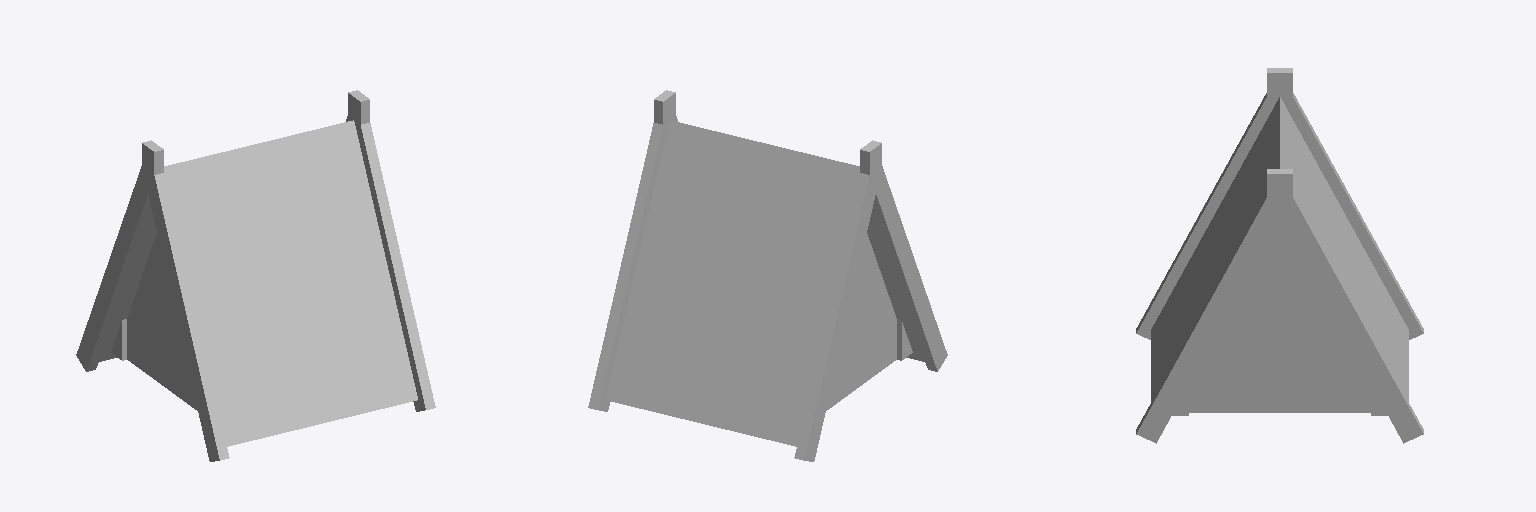
File: roof-high-gable-detail.obj
3 views of the same model, side by side, from view 1: azimuth 30°, elevation 25°; view 2: azimuth 150°, elevation 25°; view 3: azimuth 270°, elevation 25° (orthographic).
Visible parts, largest first — view 1: roof-high-gable-detail; view 2: roof-high-gable-detail; view 3: roof-high-gable-detail.
Part boxes in pixels (left/top/right/bottom): roof-high-gable-detail: left=76, top=90, right=435, bottom=461; roof-high-gable-detail: left=588, top=90, right=947, bottom=461; roof-high-gable-detail: left=1136, top=68, right=1423, bottom=443.
Size of the model in its own units: 1.1 by 1.31 by 1.27.